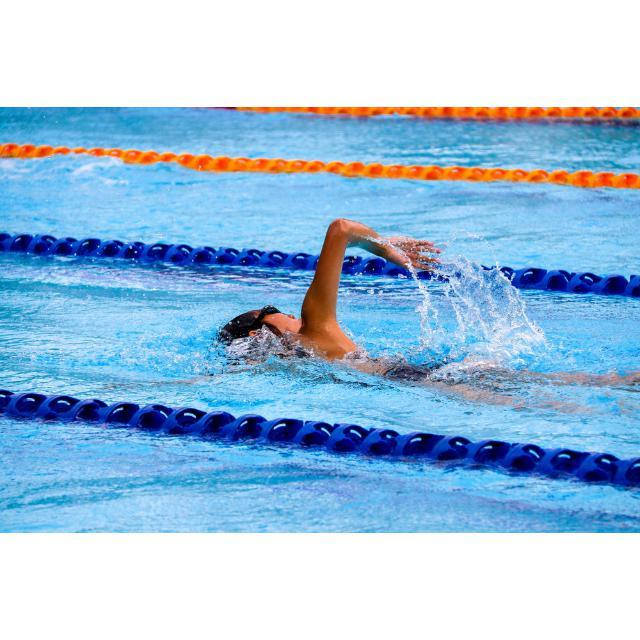human: (226, 217, 508, 397)
